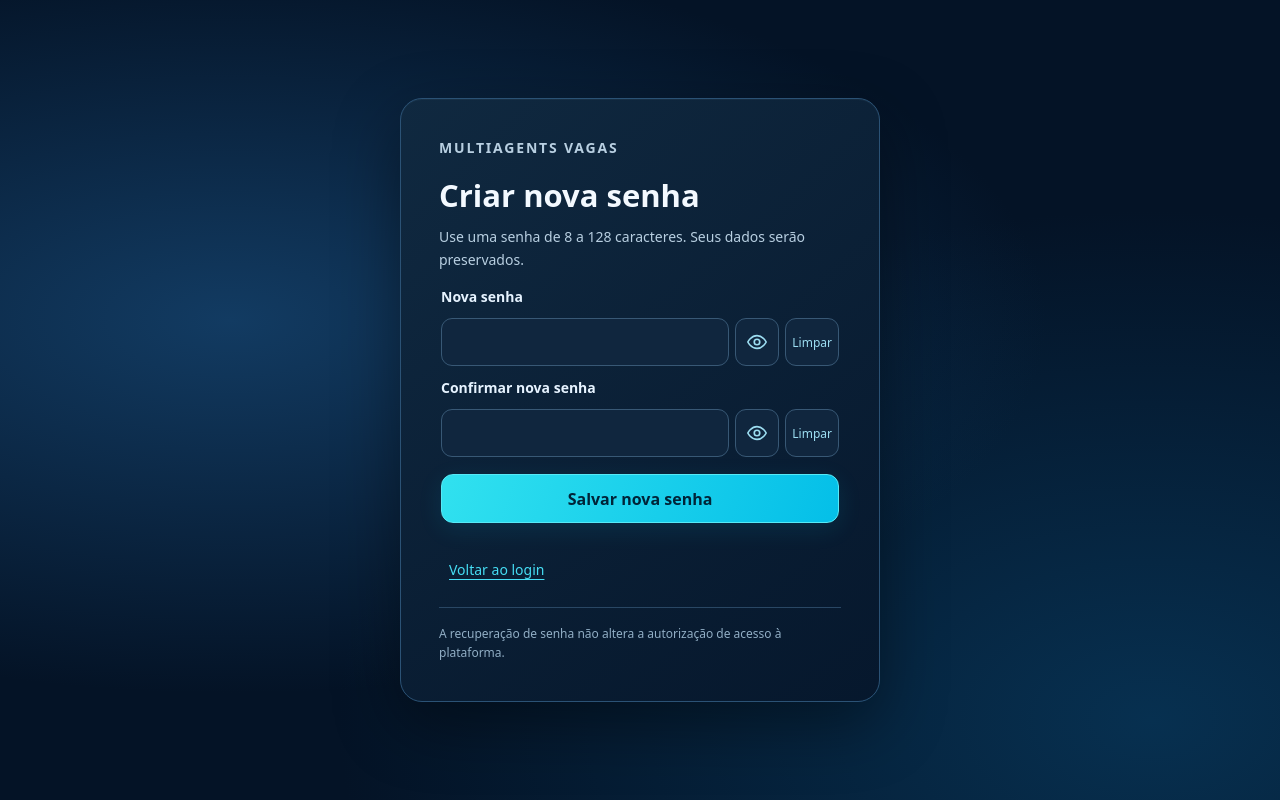
it: Recuperação de senha › mantém o formulário e mostra erro de link expirado
expect the heading "Criar nova senha" is shown: met, box [439,174,700,216]
Type "Uma senha longa segura!" into the password field labelled "Nova senha" at [585, 342], box [441,318,729,366]
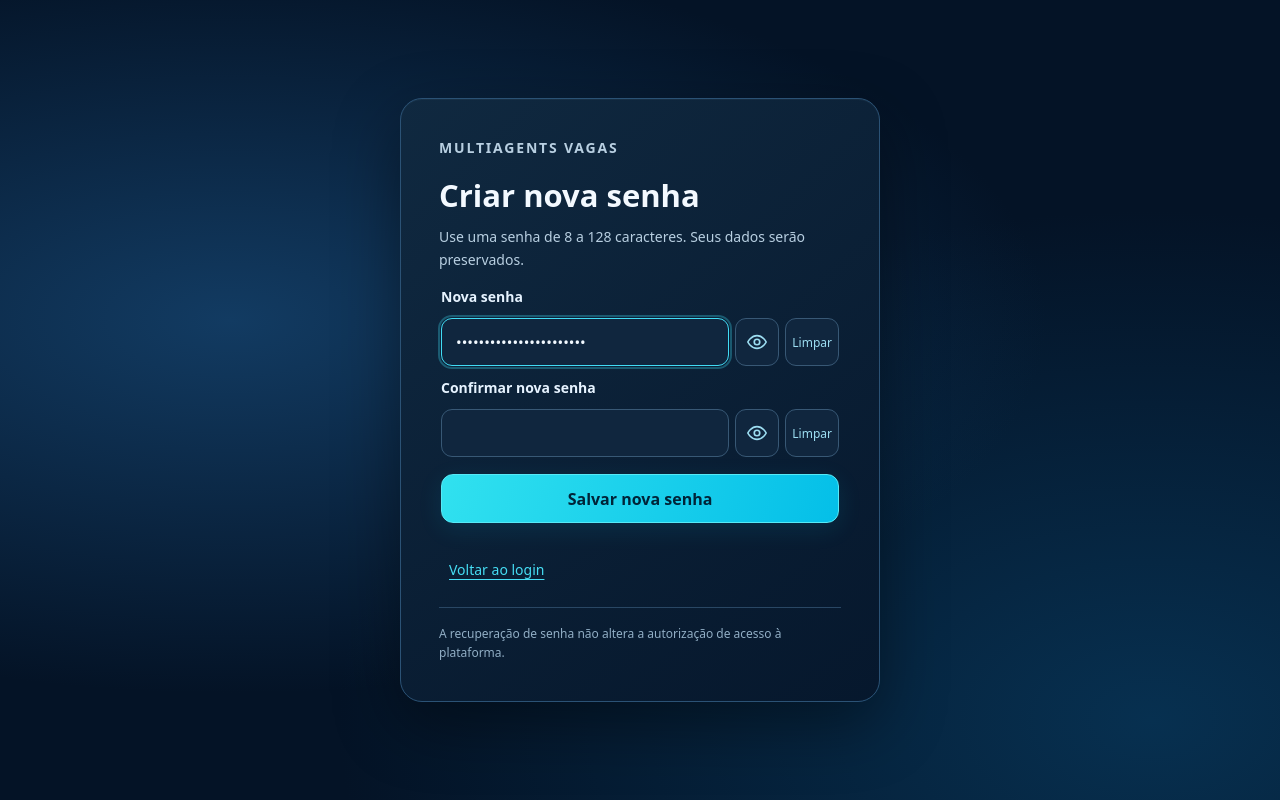
Type "Uma senha longa segura!" into the password field labelled "Confirmar nova senha" at [585, 433], box [441,409,729,457]
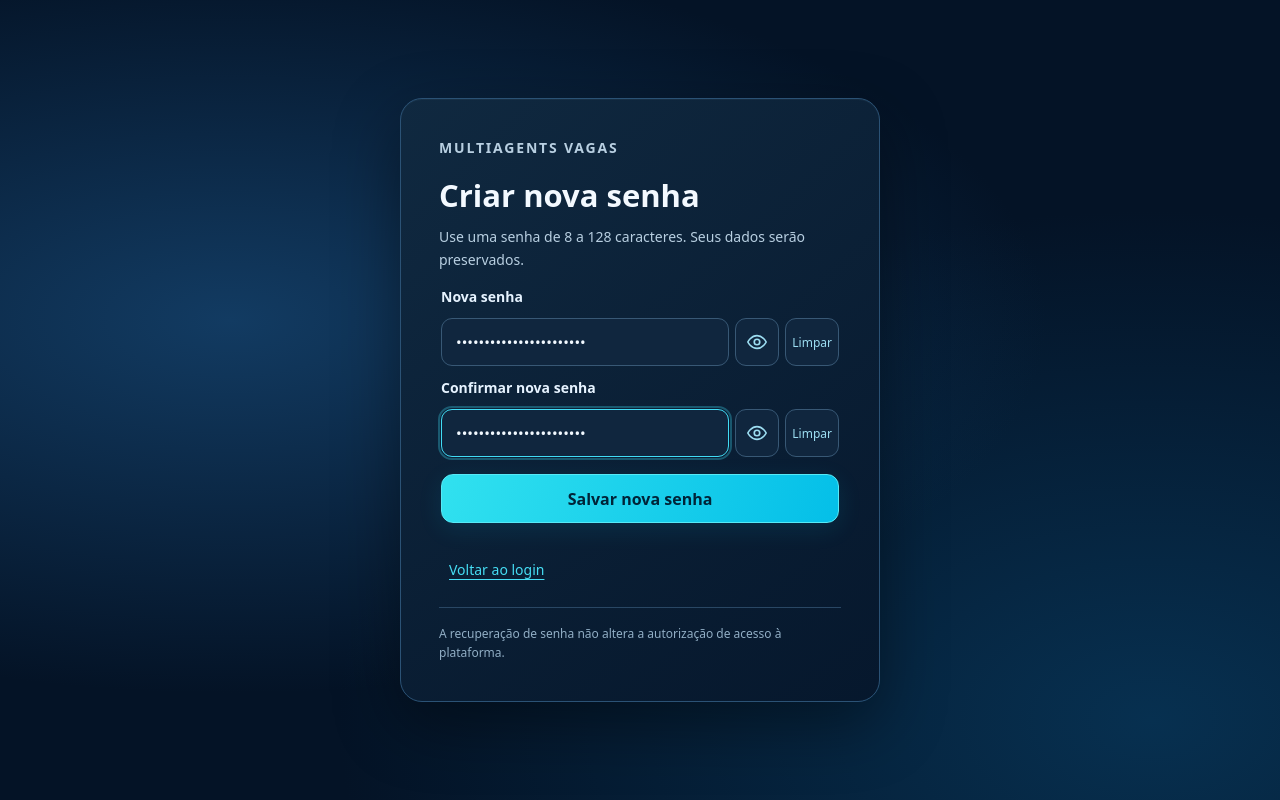
Click the button "Salvar nova senha" at [640, 499], box [441,474,839,523]
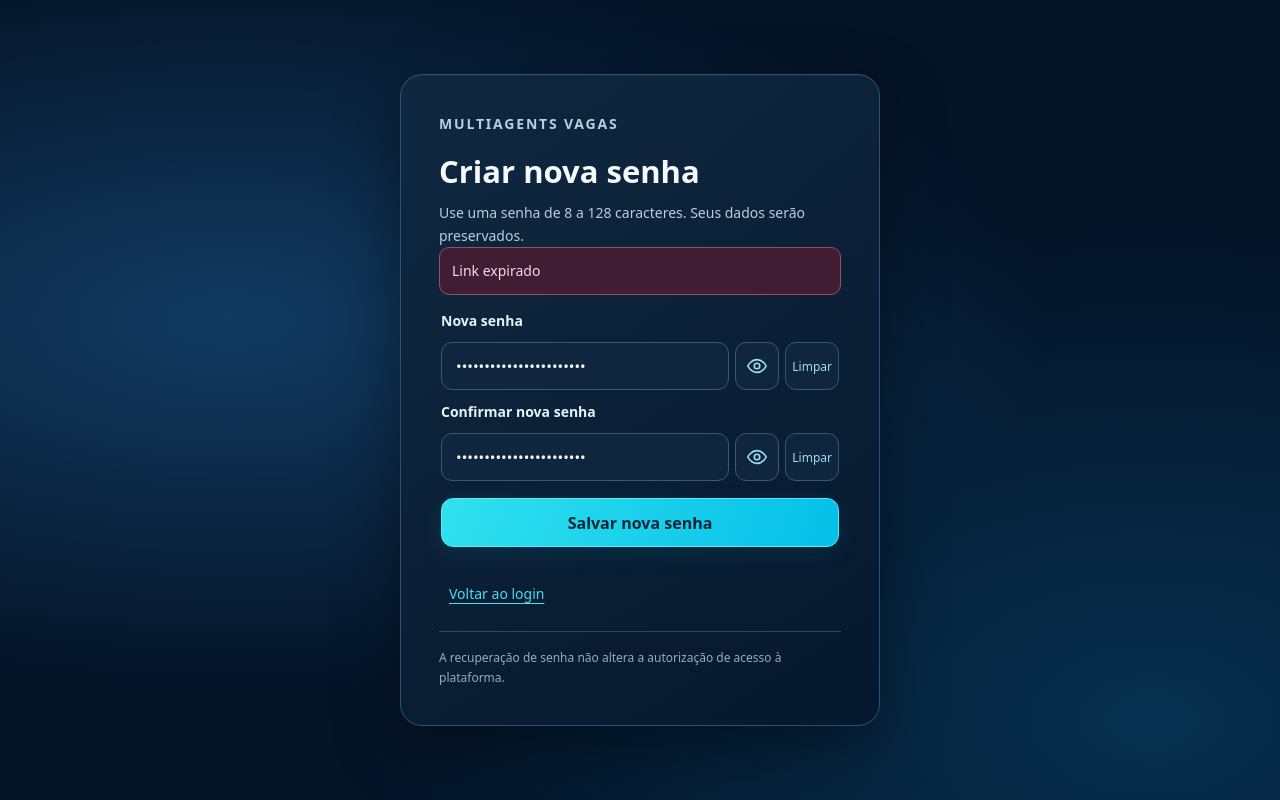
expect the heading "Criar nova senha" is shown: met, box [439,150,700,192]
expect the message reads "Link expirado": met, box [452,261,540,280]
